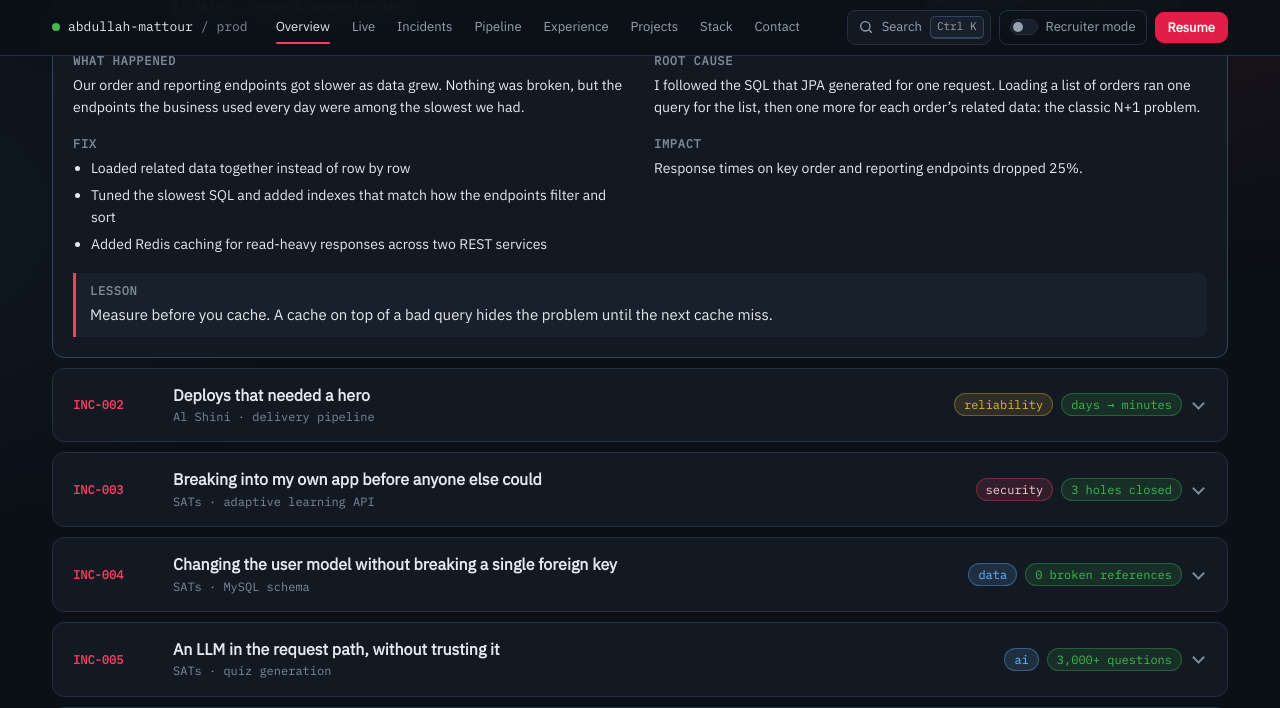
Scenario: portfolio app › opens and closes an incident report
This screenshot has width=1280, height=708.
(page scrolled)
Click the button "Deploys that needed a hero" at (98,405), box [53, 368, 1227, 441]
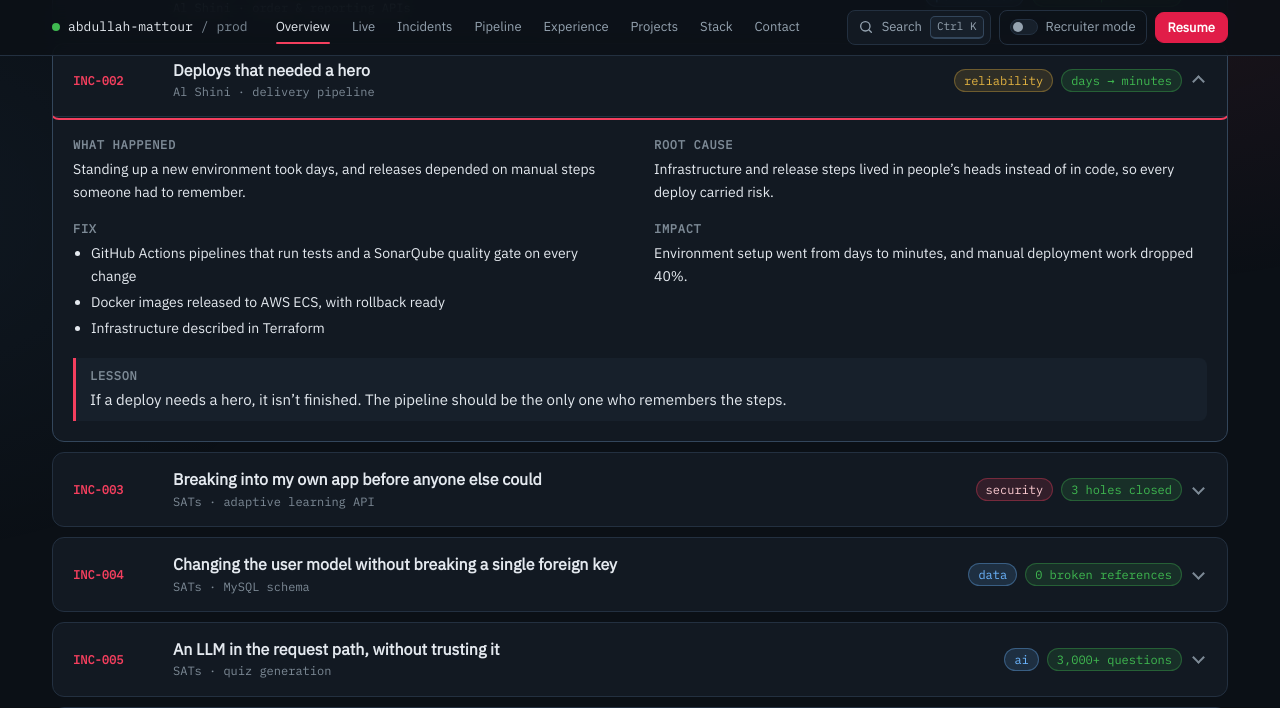
Expected: the button "Deploys that needed a hero" is expanded, [53, 44, 1227, 116]
Expected: the text "The pipeline should be the only one who remembers" is shown, [90, 390, 787, 409]
